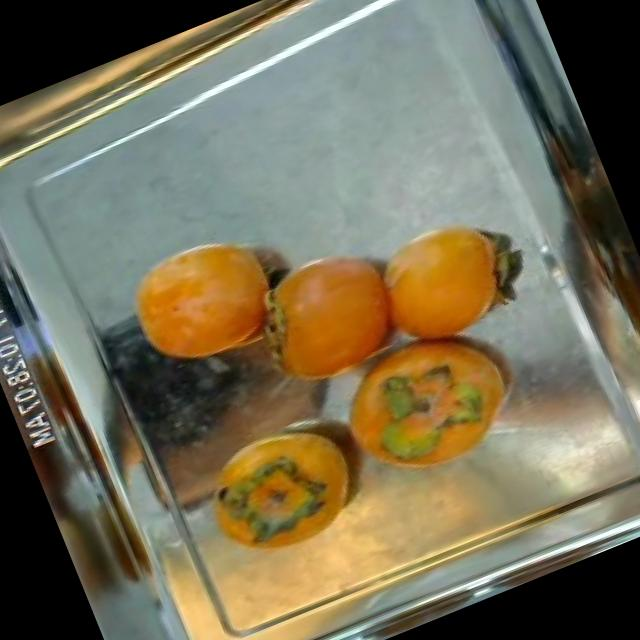Fruit: (233, 212, 442, 402), (102, 208, 307, 396), (349, 188, 546, 370), (182, 435, 344, 566)
